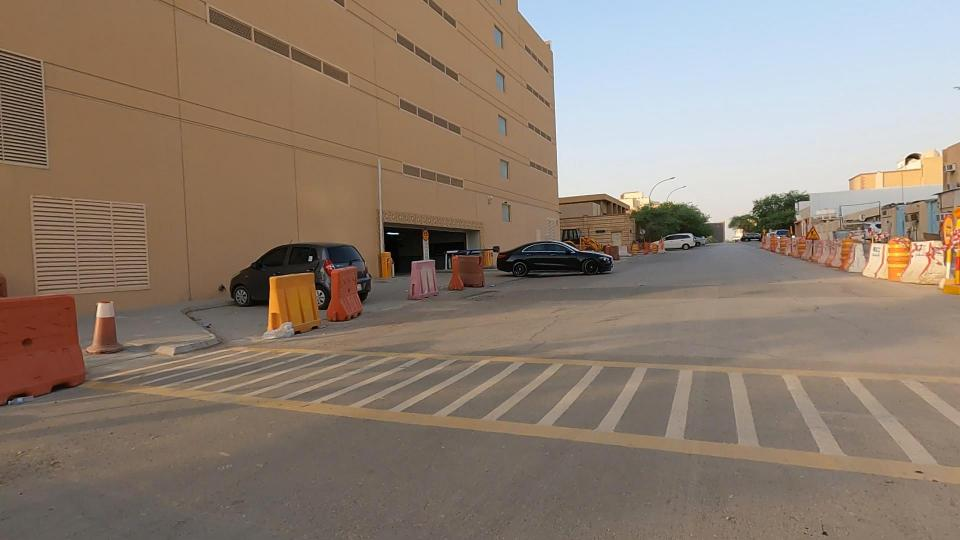CONSTRUCTION_ROAD: (685, 192, 960, 323)
